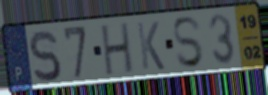3: (207, 12, 236, 68)
7: (62, 24, 89, 82)
H: (100, 20, 135, 79)
K: (134, 20, 166, 72)
S: (27, 28, 63, 85), (171, 15, 207, 71)
